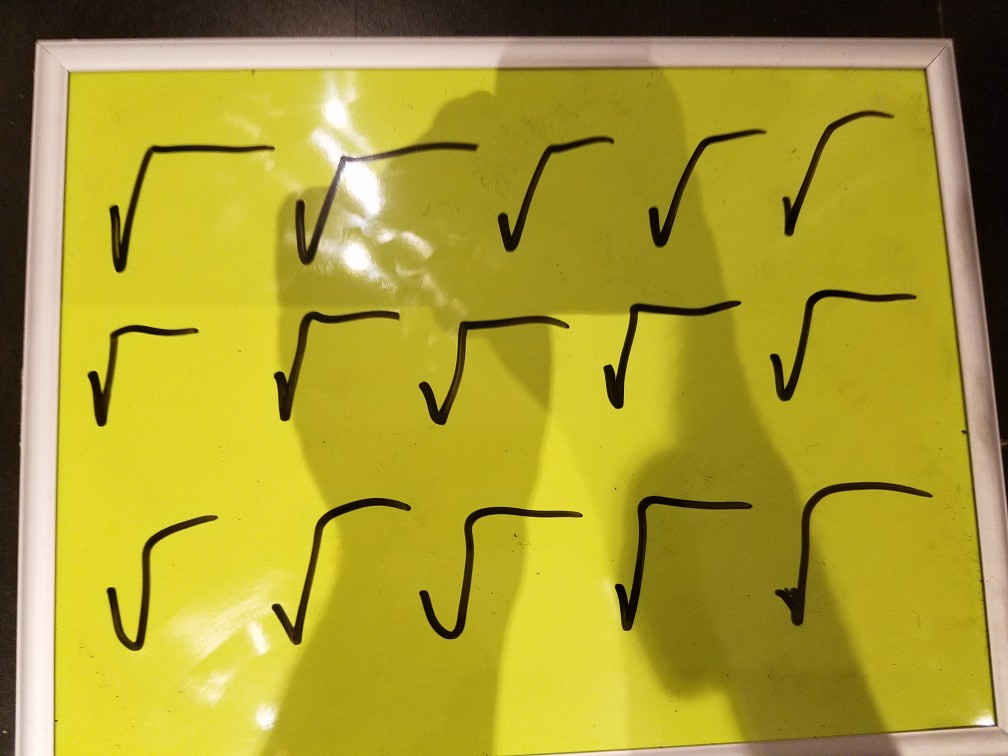sqrt: (89, 103, 280, 287), (241, 469, 407, 677), (774, 460, 953, 646), (416, 481, 581, 682), (752, 266, 940, 439), (286, 121, 492, 277), (597, 460, 753, 659), (411, 281, 587, 446), (87, 488, 232, 666), (581, 275, 741, 430), (240, 281, 389, 436), (483, 104, 623, 268), (766, 92, 905, 253), (635, 103, 768, 270), (80, 301, 199, 444)
